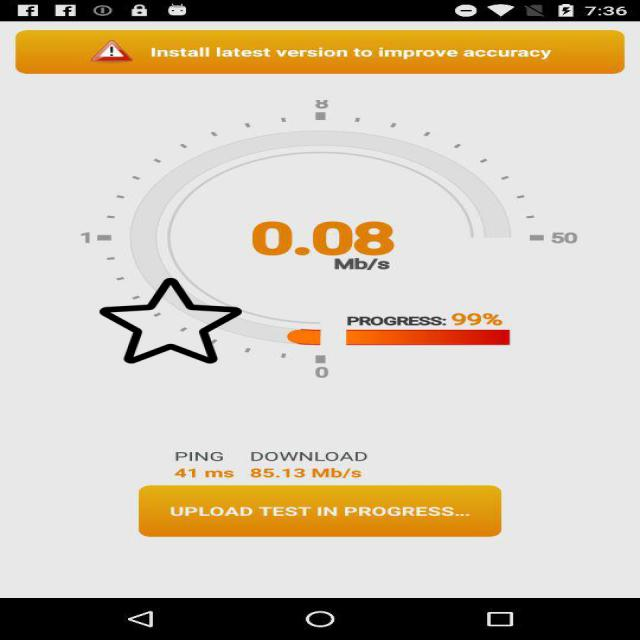forced continuity: (100, 276, 242, 365)
